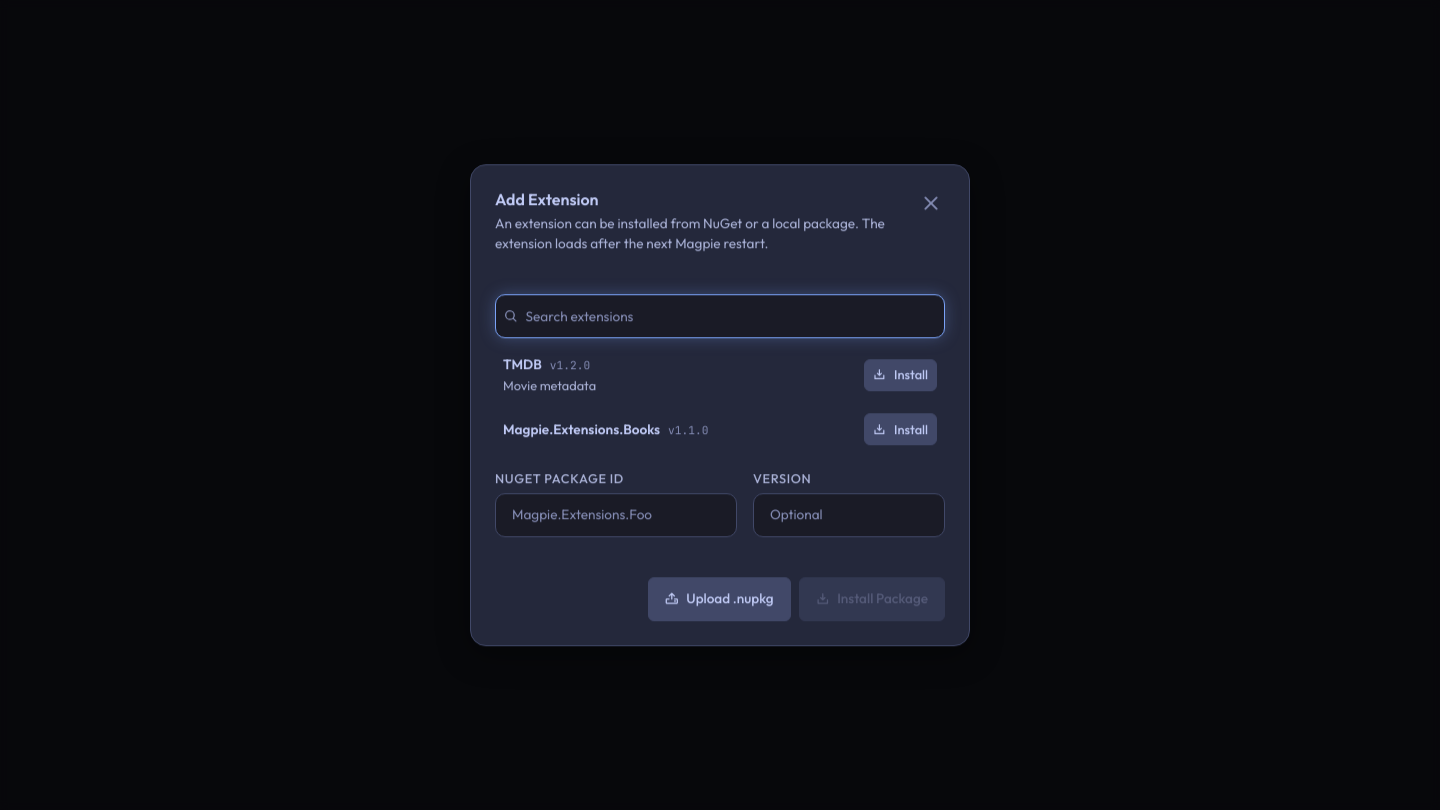
it: InstallExtensionDialog search › install_KeepsTheDialogOpenWithAnError_WhenInstallingAResultFails
Expected: the text "TMDB" is shown, [503, 354, 542, 374]
Click the button with aria-label "Install TMDB": {"x": 901, "y": 375} [864, 359, 937, 391]
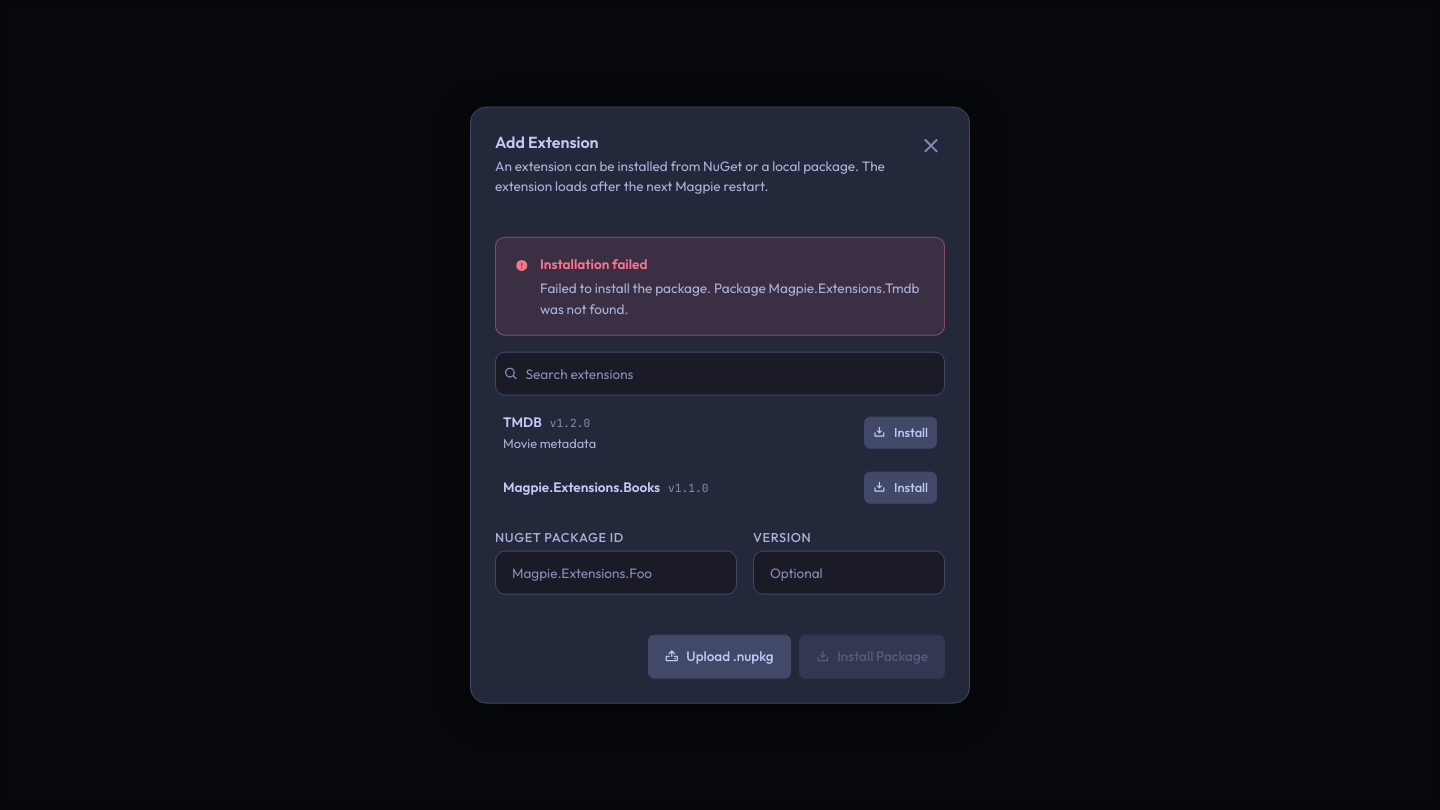
Expected: the button with aria-label "Install TMDB" is enabled, [864, 416, 937, 448]
Now the message with test id "install-extension-dialog__error" shows "Failed to install the package. Package Magpie.Extensions.Tmdb was not found.", box [540, 279, 919, 317]
